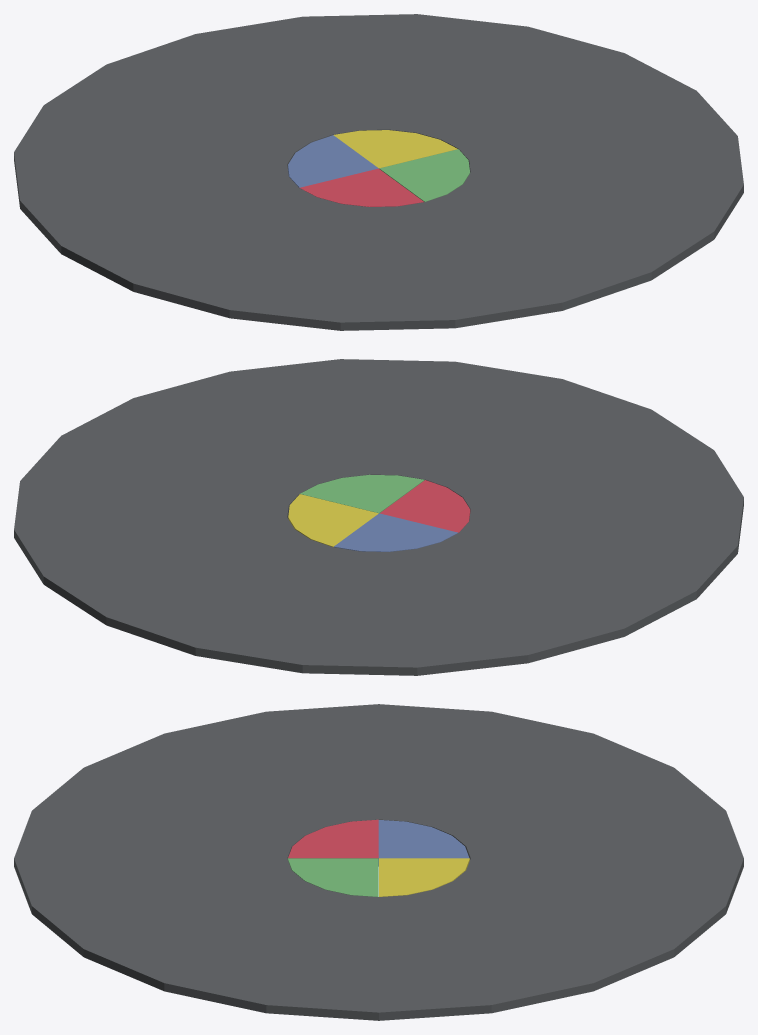
File: vinyl-record.glb
The picture shows the model from 3 angles, top to bottom: view 1: azimuth 30°, elevation 25°; view 2: azimuth 150°, elevation 25°; view 3: azimuth 270°, elevation 25°; orthographic projection.
Parts seen in each view (by area): view 1: Mesh_Mesh_head_geo.001_lambert2SG.001; view 2: Mesh_Mesh_head_geo.001_lambert2SG.001; view 3: Mesh_Mesh_head_geo.001_lambert2SG.001.
Part boxes in pixels (x1,y1,x2,y2): Mesh_Mesh_head_geo.001_lambert2SG.001: [14, 14, 743, 330]; Mesh_Mesh_head_geo.001_lambert2SG.001: [14, 359, 743, 675]; Mesh_Mesh_head_geo.001_lambert2SG.001: [14, 704, 743, 1020].
Size of the model in its own units: 8 by 0.1 by 8.
